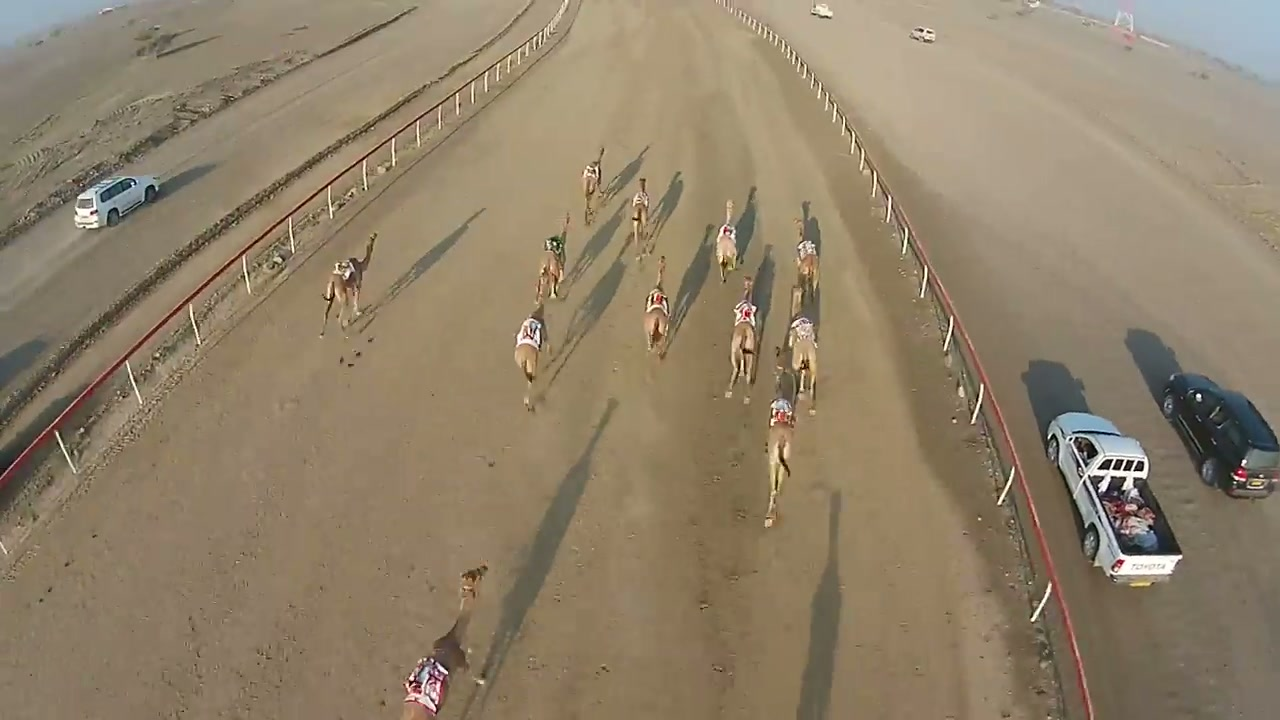animal_footprint: (157, 380, 773, 718)
